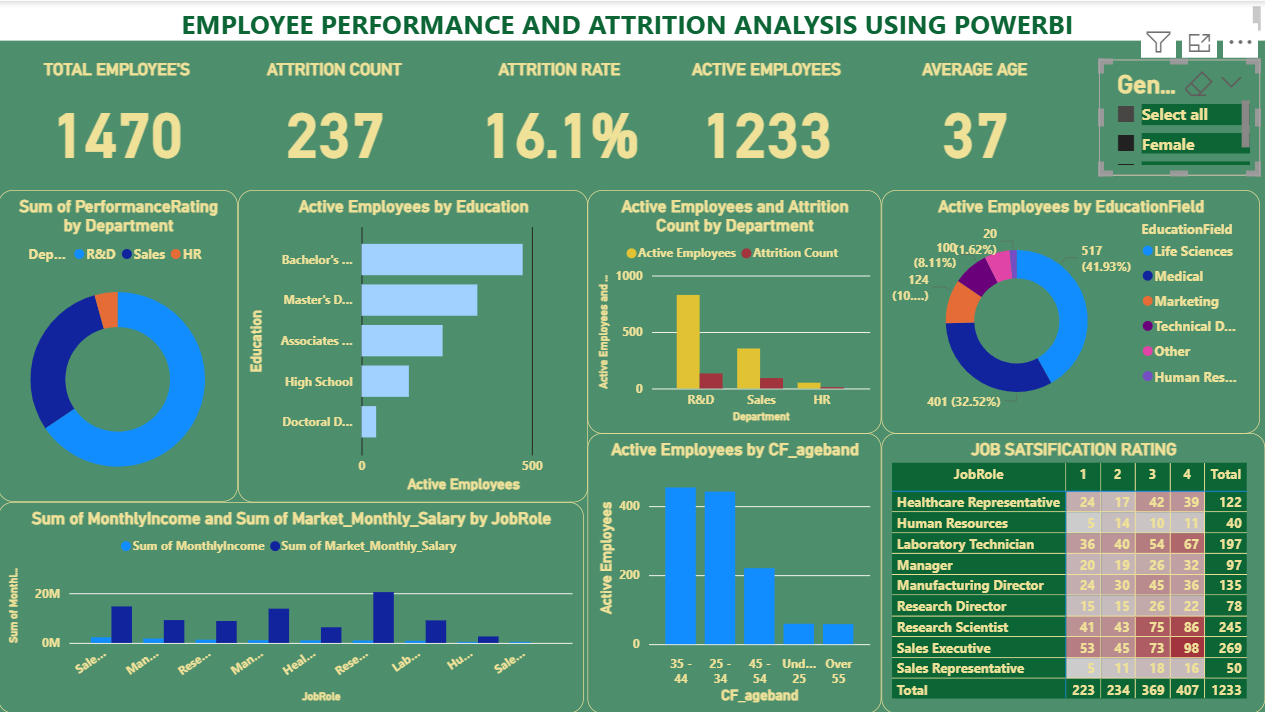

The page's visual inventory and layout, read from the dashboard file:
{"tool":"powerbi","page":{"name":"Page 1","canvas":[1280,720],"ordinal":0},"visuals":[{"type":"card","title":"TOTAL EMPLOYEE''S","fields":{"Values":["Sum(Updated_HR_Attrition_Dataset.EmployeeCount)"]},"box":[22.7,58.6,194.6,117.2],"z":0},{"type":"card","title":"ATTRITION COUNT","fields":{"Values":["Updated_HR_Attrition_Dataset.Attrition Count"]},"box":[241.9,58.6,194.6,117.2],"z":1000},{"type":"card","title":"AVERAGE AGE","fields":{"Values":["Avg(Updated_HR_Attrition_Dataset.Age)"]},"box":[888.2,58.6,194.6,117.2],"z":2000},{"type":"card","title":"ACTIVE EMPLOYEES","fields":{"Values":["Updated_HR_Attrition_Dataset.Active Employees"]},"box":[678.4,58.6,194.6,117.2],"z":3000},{"type":"card","title":"ATTRITION RATE","fields":{"Values":["Updated_HR_Attrition_Dataset.Attrition %"]},"box":[468.7,58.6,194.6,117.2],"z":4000},{"type":"clusteredColumnChart","fields":{"Y":["Updated_HR_Attrition_Dataset.Active Employees","Updated_HR_Attrition_Dataset.Attrition Count"],"Category":["Updated_HR_Attrition_Dataset.Department"]},"box":[595.3,190.9,296.7,245.7],"z":5000},{"type":"donutChart","fields":{"Y":["Updated_HR_Attrition_Dataset.Active Employees"],"Category":["Updated_HR_Attrition_Dataset.EducationField"]},"box":[892,190.9,381.7,245.7],"z":6000},{"type":"columnChart","fields":{"Y":["Updated_HR_Attrition_Dataset.Active Employees"],"Category":["Updated_HR_Attrition_Dataset.CF_ageband"]},"box":[595.3,436.5,296.7,283.5],"z":7000},{"type":"pivotTable","title":"JOB SATSIFICATION RATING","fields":{"Rows":["Updated_HR_Attrition_Dataset.JobRole"],"Columns":["Updated_HR_Attrition_Dataset.JobSatisfaction"],"Values":["Updated_HR_Attrition_Dataset.Active Employees"]},"box":[892,436.5,387.4,283.5],"z":8000},{"type":"clusteredColumnChart","fields":{"Category":["Updated_HR_Attrition_Dataset.JobRole"],"Y":["Sum(Updated_HR_Attrition_Dataset.MonthlyIncome)","Sum(Updated_HR_Attrition_Dataset.Market_Monthly_Salary)"]},"box":[0,506.5,591.5,213.5],"z":9000},{"type":"donutChart","fields":{"Y":["Sum(Updated_HR_Attrition_Dataset.PerformanceRating)"],"Category":["Updated_HR_Attrition_Dataset.Department"]},"box":[0,190.8,242.3,315],"z":10000},{"type":"clusteredBarChart","fields":{"Y":["Updated_HR_Attrition_Dataset.Active Employees"],"Category":["Updated_HR_Attrition_Dataset.Education"]},"box":[241.9,190.9,353.4,315.6],"z":11000},{"type":"slicer","fields":{"Values":["Updated_HR_Attrition_Dataset.Gender"]},"box":[1111.2,58.6,162.5,117.2],"z":12000},{"type":"textbox","box":[0,0,1279.4,39.7],"z":13000}]}

Visuals, with their boxes in screenshot pixels (x1, y1, x2, y2), scaled from the page's 1280x720 canvas onto the 1265x712 screenshot:
"TOTAL EMPLOYEE''S" card: {"x1": 22, "y1": 58, "x2": 215, "y2": 174}
"ATTRITION COUNT" card: {"x1": 239, "y1": 58, "x2": 431, "y2": 174}
"AVERAGE AGE" card: {"x1": 878, "y1": 58, "x2": 1070, "y2": 174}
"ACTIVE EMPLOYEES" card: {"x1": 670, "y1": 58, "x2": 863, "y2": 174}
"ATTRITION RATE" card: {"x1": 463, "y1": 58, "x2": 656, "y2": 174}
clusteredColumnChart - Updated_HR_Attrition_Dataset.Active Employees x Updated_HR_Attrition_Dataset.Attrition Count: {"x1": 588, "y1": 189, "x2": 882, "y2": 432}
donutChart - Updated_HR_Attrition_Dataset.Active Employees x Updated_HR_Attrition_Dataset.EducationField: {"x1": 882, "y1": 189, "x2": 1259, "y2": 432}
columnChart - Updated_HR_Attrition_Dataset.Active Employees x Updated_HR_Attrition_Dataset.CF_ageband: {"x1": 588, "y1": 432, "x2": 882, "y2": 711}
"JOB SATSIFICATION RATING" pivotTable: {"x1": 882, "y1": 432, "x2": 1264, "y2": 711}
clusteredColumnChart - Updated_HR_Attrition_Dataset.JobRole x Sum(Updated_HR_Attrition_Dataset.MonthlyIncome): {"x1": 0, "y1": 501, "x2": 585, "y2": 711}
donutChart - Sum(Updated_HR_Attrition_Dataset.PerformanceRating) x Updated_HR_Attrition_Dataset.Department: {"x1": 0, "y1": 189, "x2": 239, "y2": 500}
clusteredBarChart - Updated_HR_Attrition_Dataset.Active Employees x Updated_HR_Attrition_Dataset.Education: {"x1": 239, "y1": 189, "x2": 588, "y2": 501}
slicer - Updated_HR_Attrition_Dataset.Gender: {"x1": 1098, "y1": 58, "x2": 1259, "y2": 174}
textbox: {"x1": 0, "y1": 0, "x2": 1264, "y2": 39}
